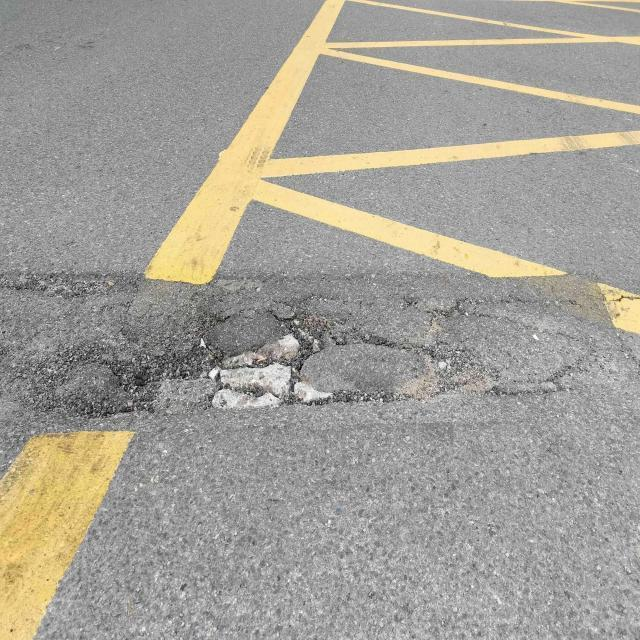pothole: (18, 268, 595, 435)
